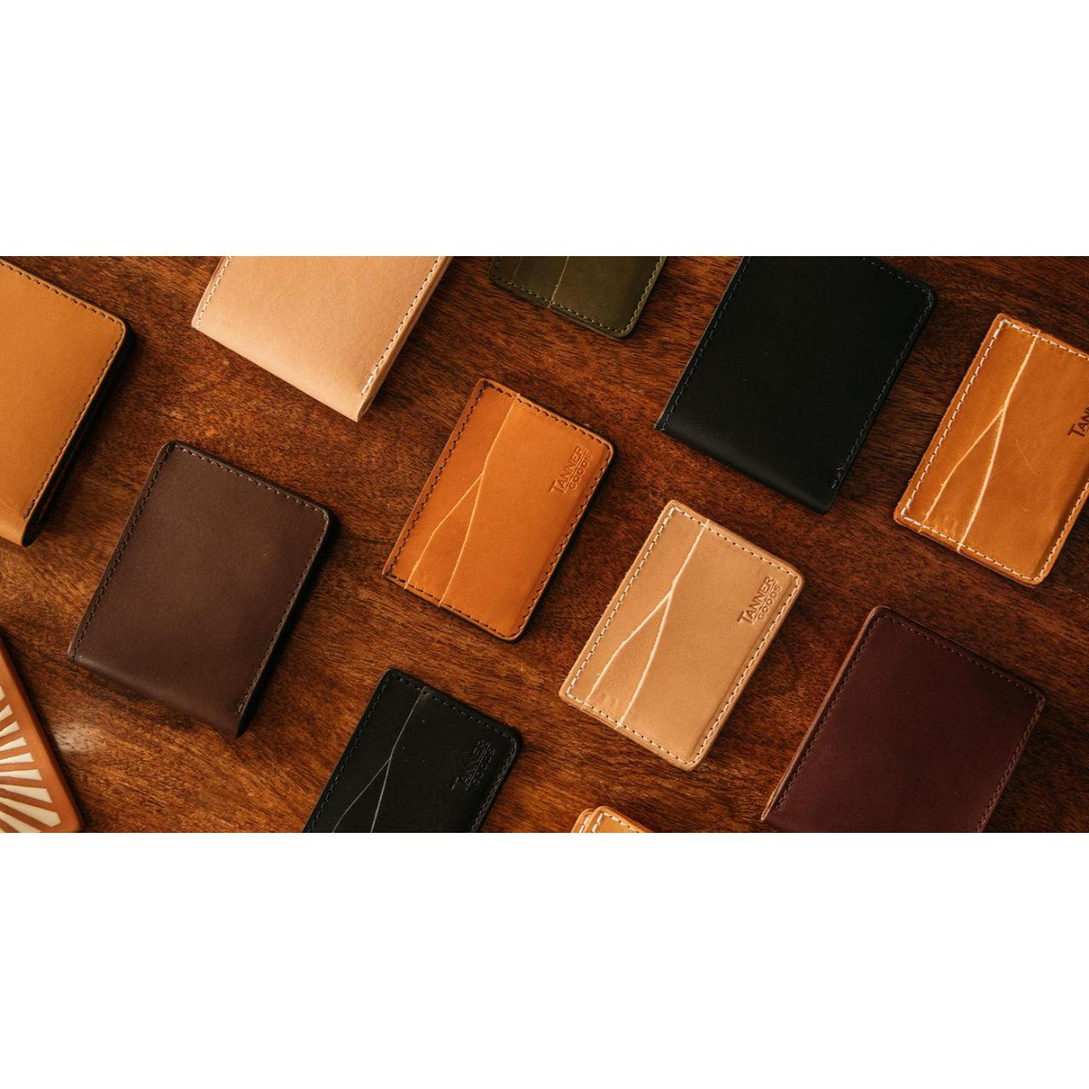wallet: (72, 430, 340, 717), (753, 588, 1080, 822), (562, 485, 816, 757), (643, 264, 927, 502), (893, 297, 1089, 579), (412, 364, 602, 640), (281, 691, 537, 833)
